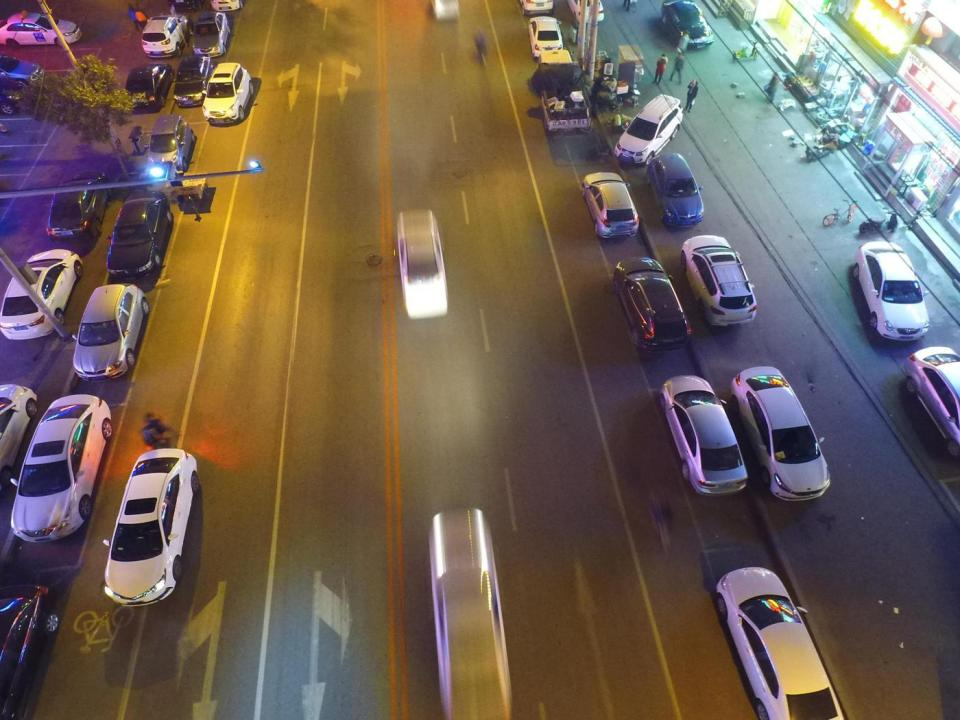car: (712, 567, 845, 718), (433, 508, 510, 714), (105, 447, 199, 610), (11, 395, 112, 544), (728, 365, 831, 499), (658, 376, 748, 496), (0, 248, 83, 341), (854, 239, 930, 340), (612, 255, 690, 353), (75, 281, 150, 381), (682, 234, 758, 328), (0, 586, 48, 718), (107, 187, 172, 283), (905, 344, 959, 458), (640, 151, 708, 225), (614, 94, 685, 164), (49, 170, 112, 245), (580, 171, 641, 240), (0, 382, 36, 486), (201, 61, 258, 125), (0, 10, 79, 49), (147, 114, 194, 174), (660, 0, 713, 49), (126, 61, 176, 109), (140, 15, 188, 57), (189, 12, 230, 60), (176, 53, 213, 106), (528, 16, 564, 58), (0, 56, 44, 88), (0, 78, 31, 114), (566, 0, 604, 23), (431, 0, 457, 23), (519, 1, 556, 14)
truck: (536, 48, 591, 133)
van: (395, 210, 450, 318)
